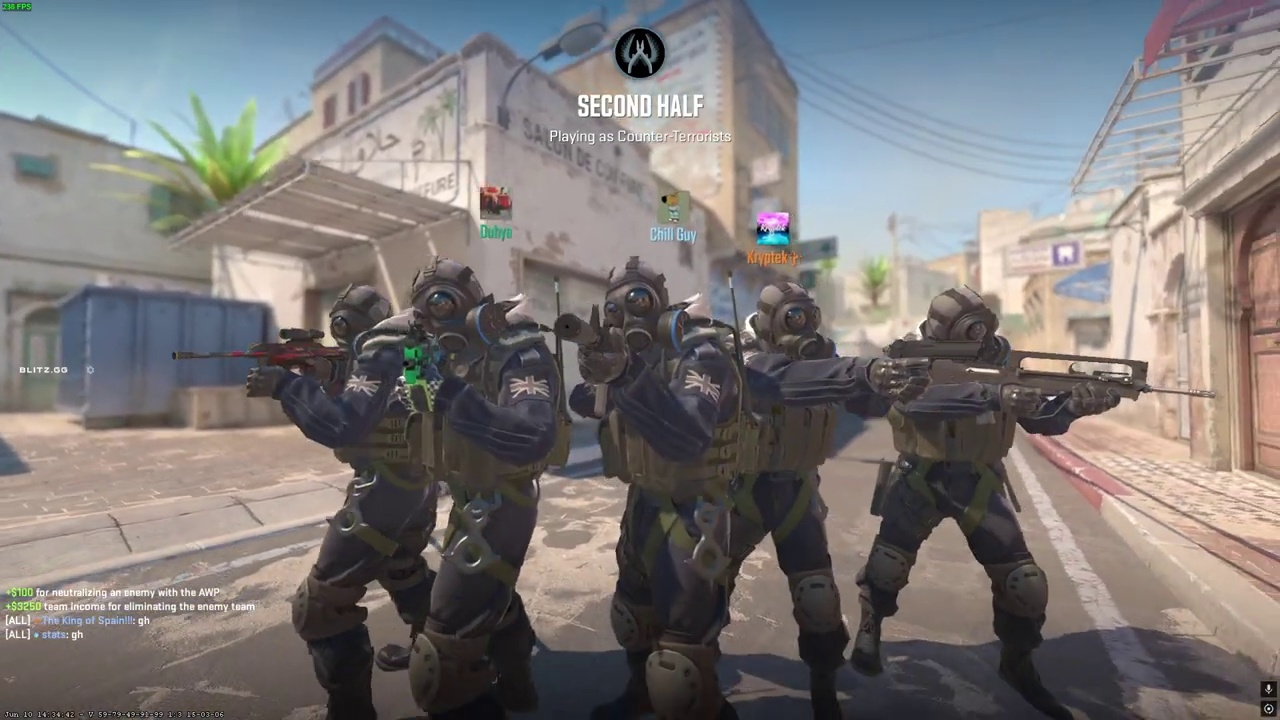CT: (857, 284, 1063, 720), (577, 255, 744, 719), (412, 257, 568, 720), (270, 281, 418, 720), (712, 278, 856, 718)
